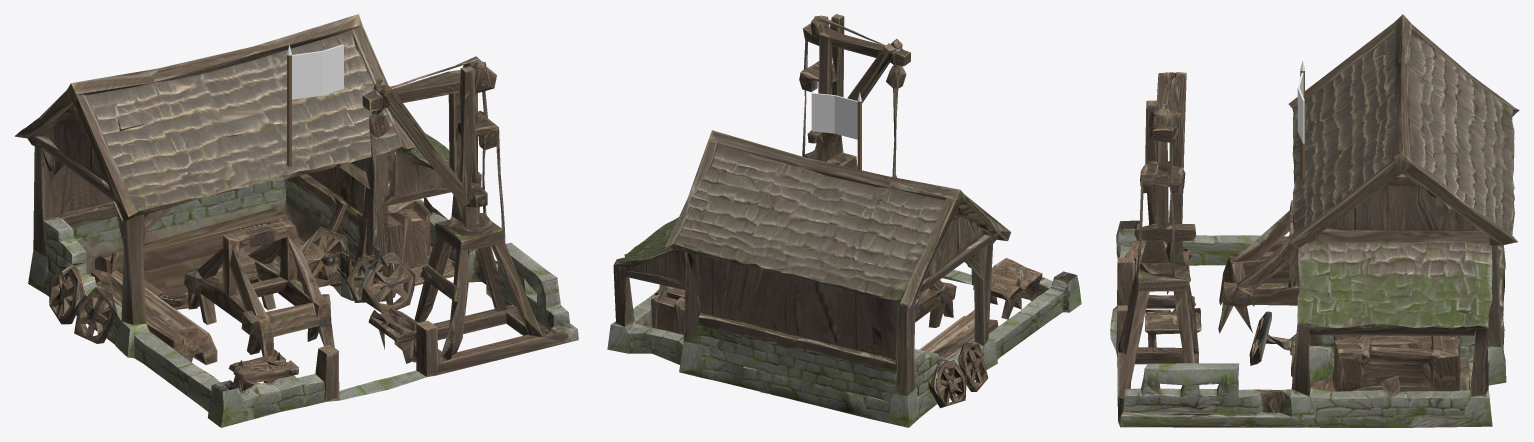
3 renders of one model, left to right at view 1: azimuth 30°, elevation 25°; view 2: azimuth 150°, elevation 25°; view 3: azimuth 270°, elevation 25°, orthographic. The views are drawn at different scales.
Visible parts, largest first — view 1: siege_workshop, Team_banner; view 2: siege_workshop, Team_banner; view 3: siege_workshop, Team_banner.
Part boxes in pixels (x1=…): siege_workshop: x1=14, y1=14, x2=578, y2=427; Team_banner: x1=287, y1=44, x2=343, y2=166; siege_workshop: x1=607, y1=14, x2=1081, y2=427; Team_banner: x1=811, y1=92, x2=861, y2=170; siege_workshop: x1=1110, y1=14, x2=1519, y2=427; Team_banner: x1=1297, y1=60, x2=1304, y2=180.
Size of the model in its own units: 1.9 by 1.39 by 1.83.
Materials: 3 (1 with a texture image).
